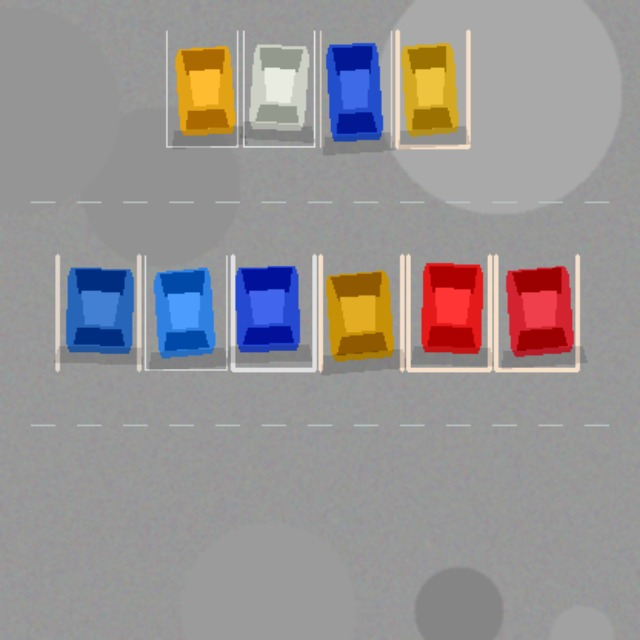space-occupied: (232, 255, 314, 369), (320, 255, 402, 369), (495, 255, 577, 369), (57, 255, 138, 369), (145, 255, 226, 369), (408, 255, 489, 369), (166, 31, 237, 146), (243, 31, 314, 146), (320, 31, 391, 146), (397, 31, 468, 146)
